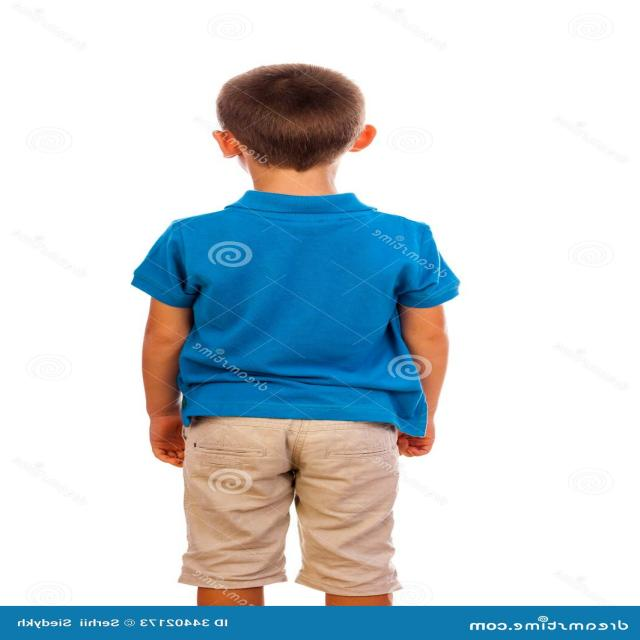child: (136, 65, 462, 607)
